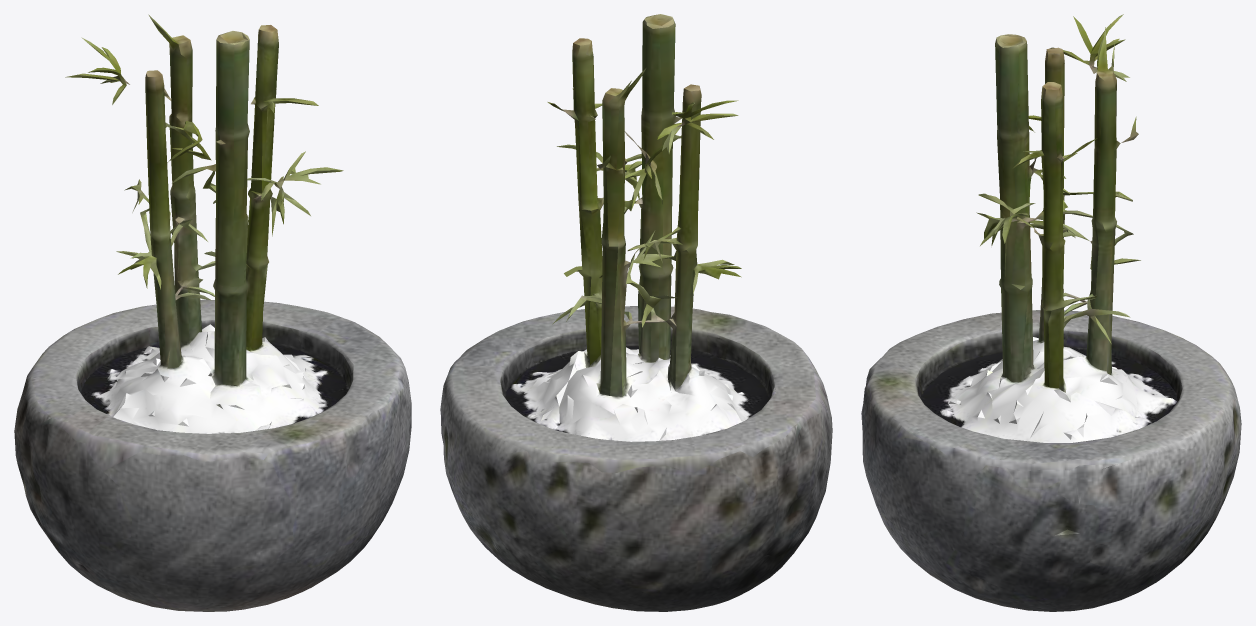
The model's file is shishi.glb.
3 views of the same model, side by side, from view 1: azimuth 30°, elevation 25°; view 2: azimuth 150°, elevation 25°; view 3: azimuth 270°, elevation 25° (orthographic). The views are drawn at different scales.
Visible parts, largest first — view 1: shishi; view 2: shishi; view 3: shishi.
Part boxes in pixels (x1,y1,x2,y2): shishi: (14, 14, 411, 611); shishi: (440, 14, 832, 611); shishi: (861, 14, 1241, 611).
Size of the model in its own units: 0.566 by 0.85 by 0.5482.
Materials: 1 (1 with a texture image).
